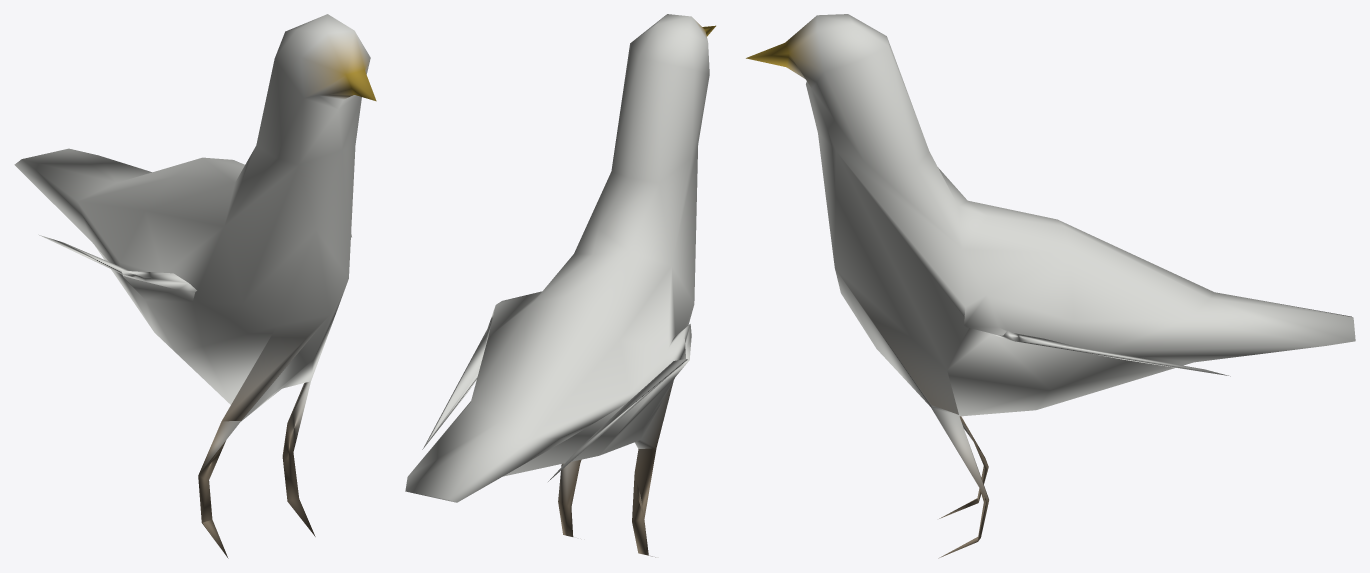
File: cormorant-1.glb
3 views of the same model, side by side, from view 1: azimuth 30°, elevation 25°; view 2: azimuth 150°, elevation 25°; view 3: azimuth 270°, elevation 25° (orthographic). The views are drawn at different scales.
Visible parts, largest first — view 1: cormorant; view 2: cormorant; view 3: cormorant.
Part boxes in pixels (x1,y1,x2,y2): cormorant: [14, 14, 376, 558]; cormorant: [405, 14, 715, 557]; cormorant: [746, 14, 1355, 558].
Size of the model in its own units: 0.2285 by 0.5573 by 0.5933.
